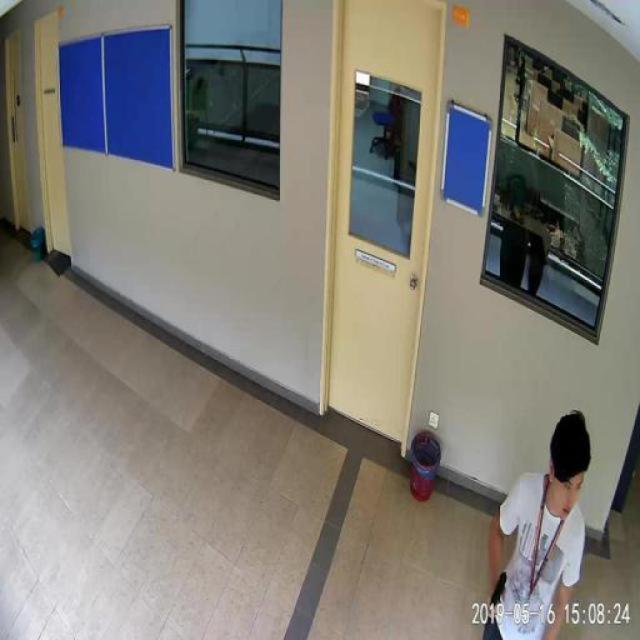pistol: (487, 568, 505, 604)
